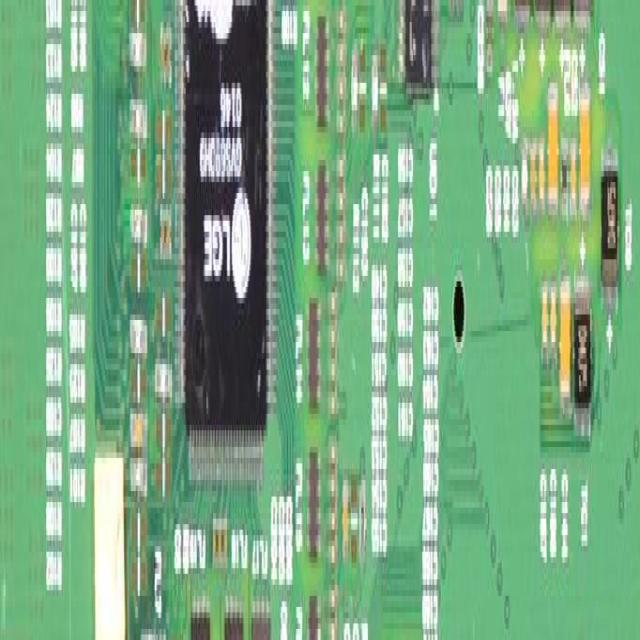capacitor: (560, 276, 571, 408), (579, 72, 589, 215), (548, 77, 557, 215), (130, 403, 146, 452), (351, 474, 358, 568), (381, 39, 388, 132), (539, 127, 545, 221), (570, 132, 576, 221), (530, 132, 536, 221), (343, 474, 349, 563), (359, 39, 365, 127), (550, 276, 556, 364), (522, 127, 527, 226), (486, 0, 492, 72), (542, 270, 547, 353), (165, 22, 171, 88), (166, 204, 172, 265), (160, 199, 166, 259), (222, 518, 228, 574), (160, 22, 165, 88), (326, 287, 338, 314), (327, 320, 337, 348), (327, 579, 337, 607), (337, 66, 345, 100), (327, 436, 337, 463), (337, 149, 346, 177), (328, 469, 337, 497), (337, 248, 344, 282), (328, 358, 338, 381), (337, 0, 345, 28), (337, 182, 345, 210), (328, 502, 336, 530), (329, 535, 337, 563), (328, 392, 338, 414), (212, 513, 216, 563), (218, 513, 222, 563), (337, 215, 344, 243), (337, 105, 344, 132), (327, 623, 338, 640), (337, 38, 344, 61), (449, 0, 455, 11), (172, 629, 176, 640)
resistor: (130, 204, 148, 248), (130, 552, 148, 596), (130, 248, 148, 287), (130, 315, 148, 353), (130, 359, 148, 397), (130, 508, 148, 546), (155, 452, 172, 491), (155, 155, 172, 193), (130, 452, 146, 491), (359, 480, 366, 568), (130, 28, 146, 66), (130, 94, 146, 132), (156, 298, 172, 336), (156, 105, 171, 143), (157, 408, 171, 447), (156, 358, 172, 392), (130, 144, 146, 176), (372, 44, 378, 127), (130, 0, 146, 28), (352, 39, 357, 127), (142, 629, 158, 640)
